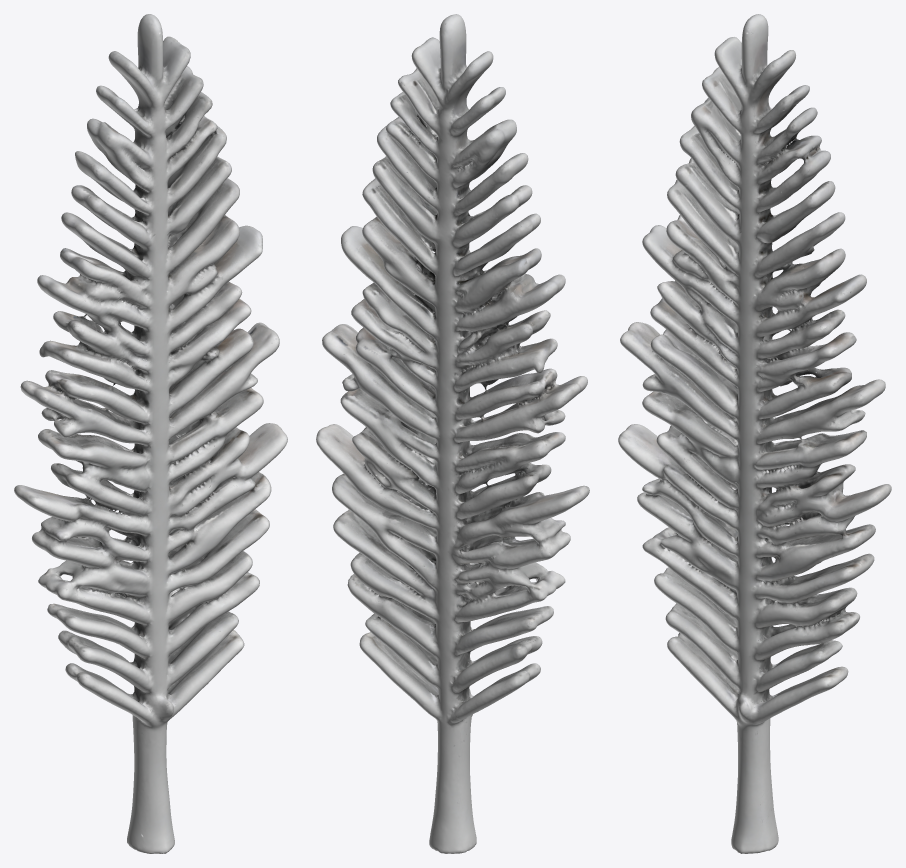
File: ivory-sprig.glb
The picture shows the model from 3 angles, left to right: view 1: azimuth 30°, elevation 25°; view 2: azimuth 150°, elevation 25°; view 3: azimuth 330°, elevation 25°; orthographic projection.
Bounding box in the file's own units: 0.6636 × 2 × 0.1435.
1 material, 1 textured.
